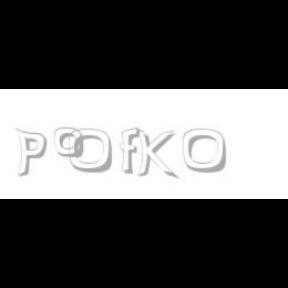K: (135, 128, 175, 180)
O: (68, 128, 114, 174), (182, 128, 228, 174)
P: (15, 128, 47, 178)
f: (120, 128, 144, 174)
o: (54, 128, 84, 158)
